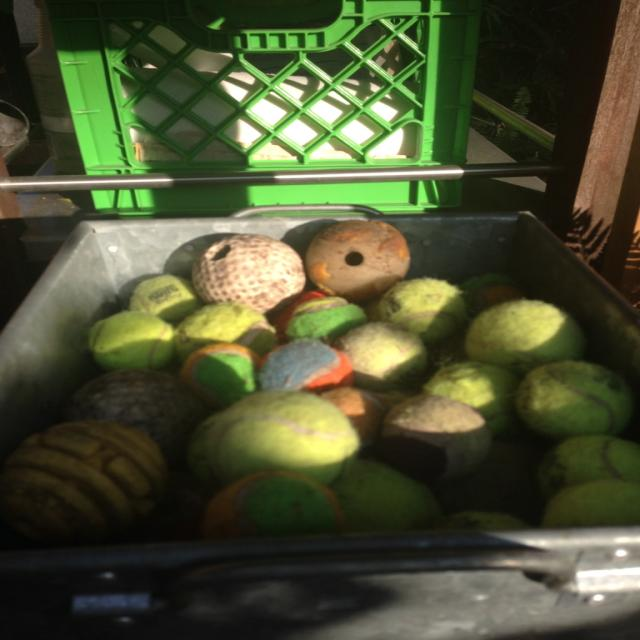Tennis ball: (66, 275, 640, 526)
